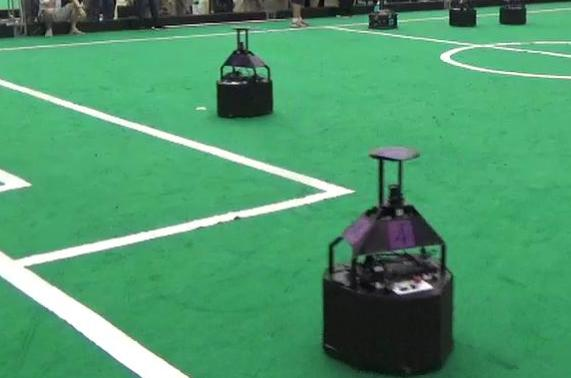robot: (317, 141, 459, 378), (214, 24, 274, 119)
